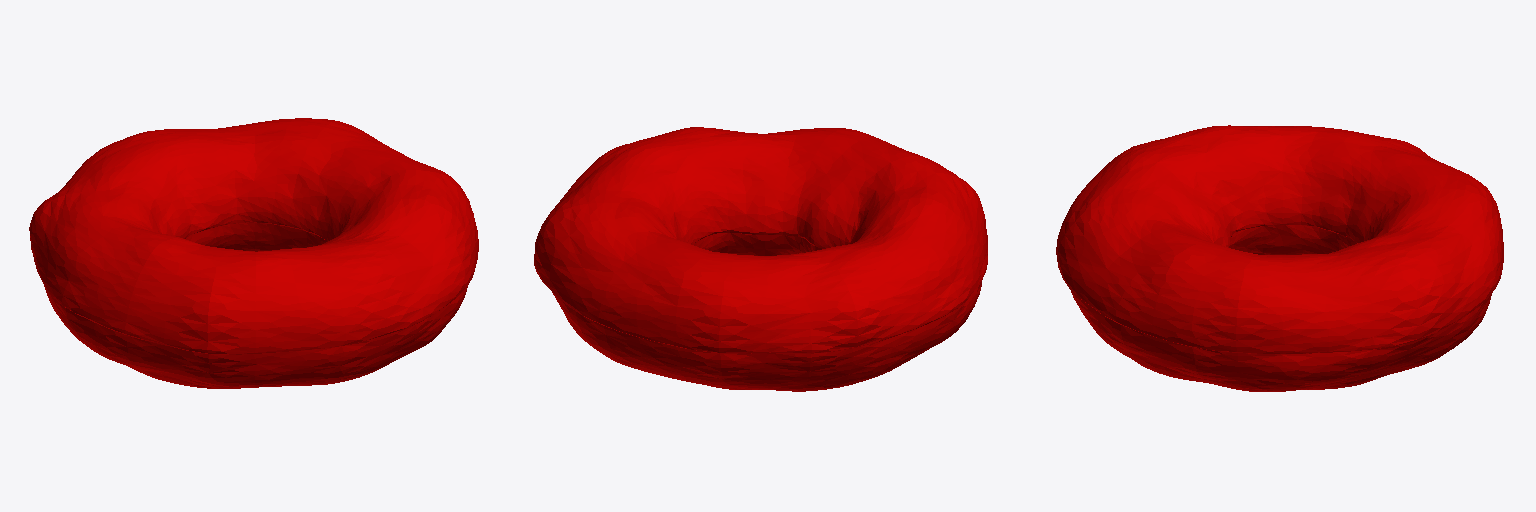
Rendered from Moarte.obj.
The picture shows the model from 3 angles: view 1: azimuth 30°, elevation 25°; view 2: azimuth 150°, elevation 25°; view 3: azimuth 270°, elevation 25°; orthographic projection.
Parts seen in each view (by area): view 1: Iciing_Torus.001, Torus; view 2: Iciing_Torus.001, Torus; view 3: Iciing_Torus.001, Torus.
Boxes of the visible parts, x1=… form: Iciing_Torus.001: x1=29, y1=118, x2=478, y2=354; Torus: x1=43, y1=223, x2=467, y2=388; Iciing_Torus.001: x1=534, y1=127, x2=987, y2=353; Torus: x1=552, y1=233, x2=982, y2=391; Iciing_Torus.001: x1=1056, y1=125, x2=1503, y2=353; Torus: x1=1071, y1=225, x2=1491, y2=391.
Size of the model in its own units: 0.1051 by 0.0344 by 0.1056.